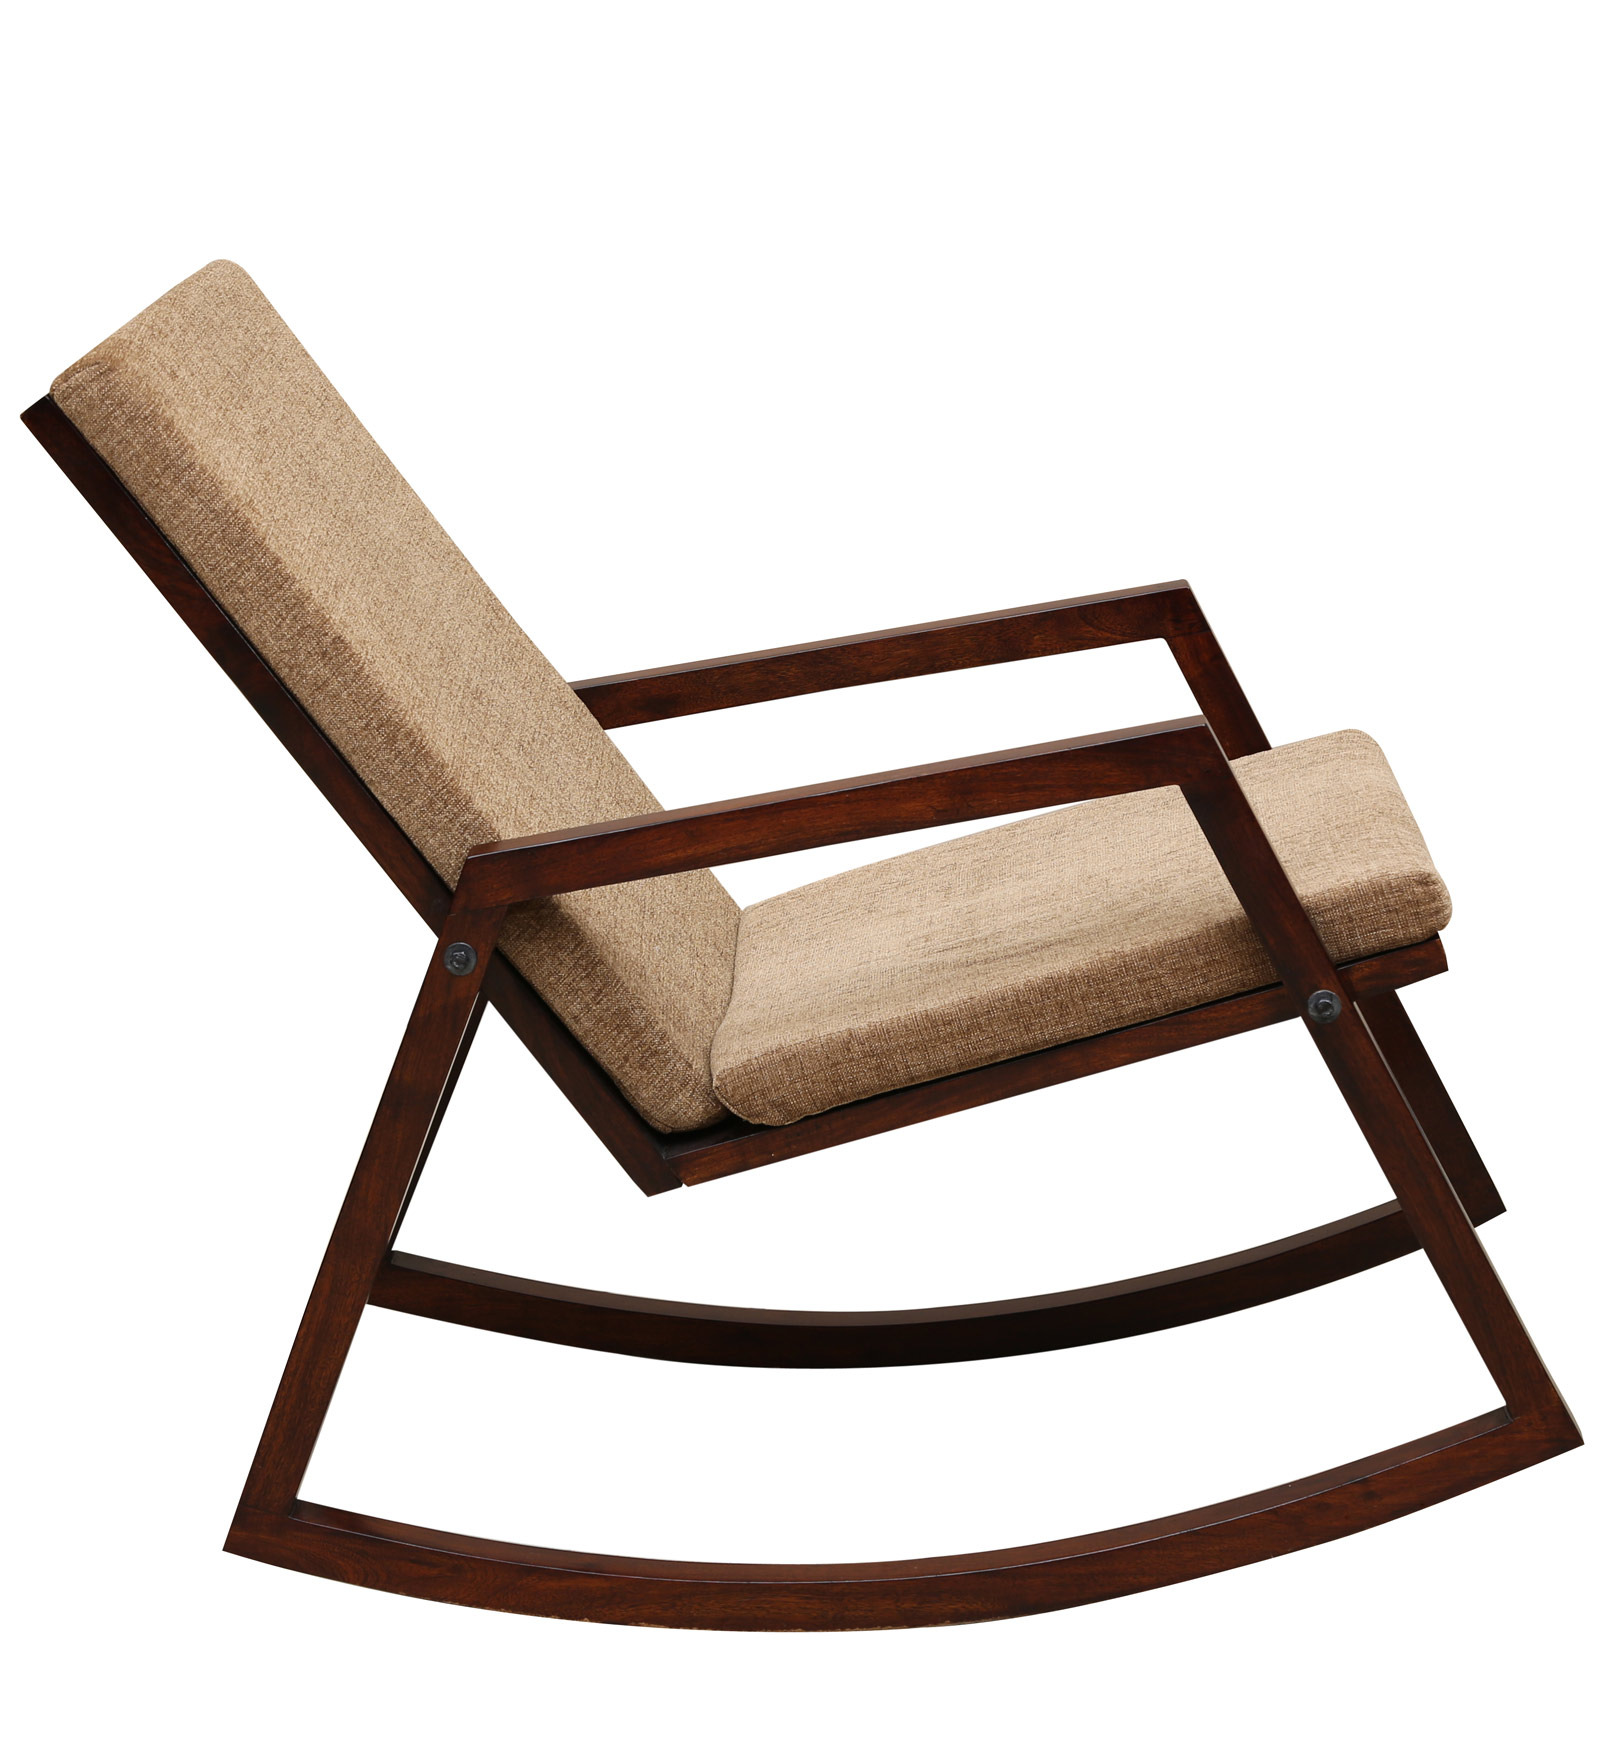Ace Rocking Chair in Brown Colour by HomeTown: (9, 196, 1600, 1653)
